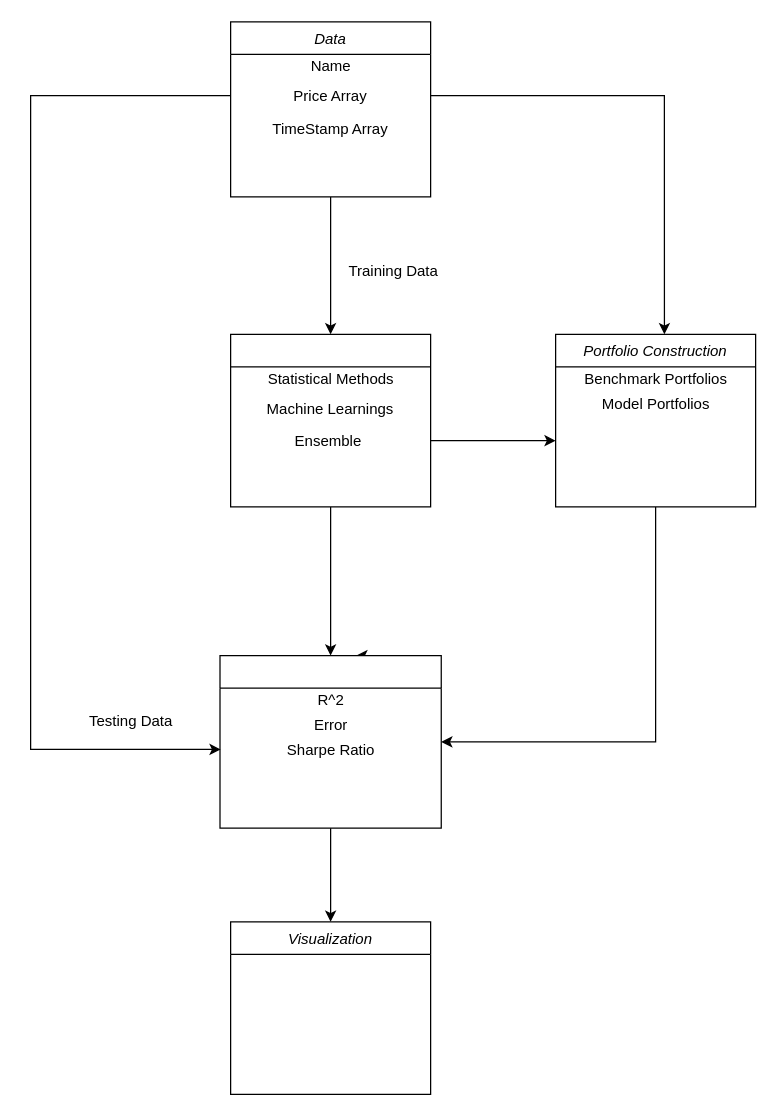
This 778x1116 diagram has some shape labels left out. The box of each missing label's shape, as (x1, y1, x2, y2) in pixels:
Forecast Model: (229, 333, 431, 507)
Performance Evaluation: (219, 654, 441, 828)
